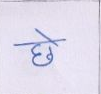e_matra: (34, 28, 52, 40)
